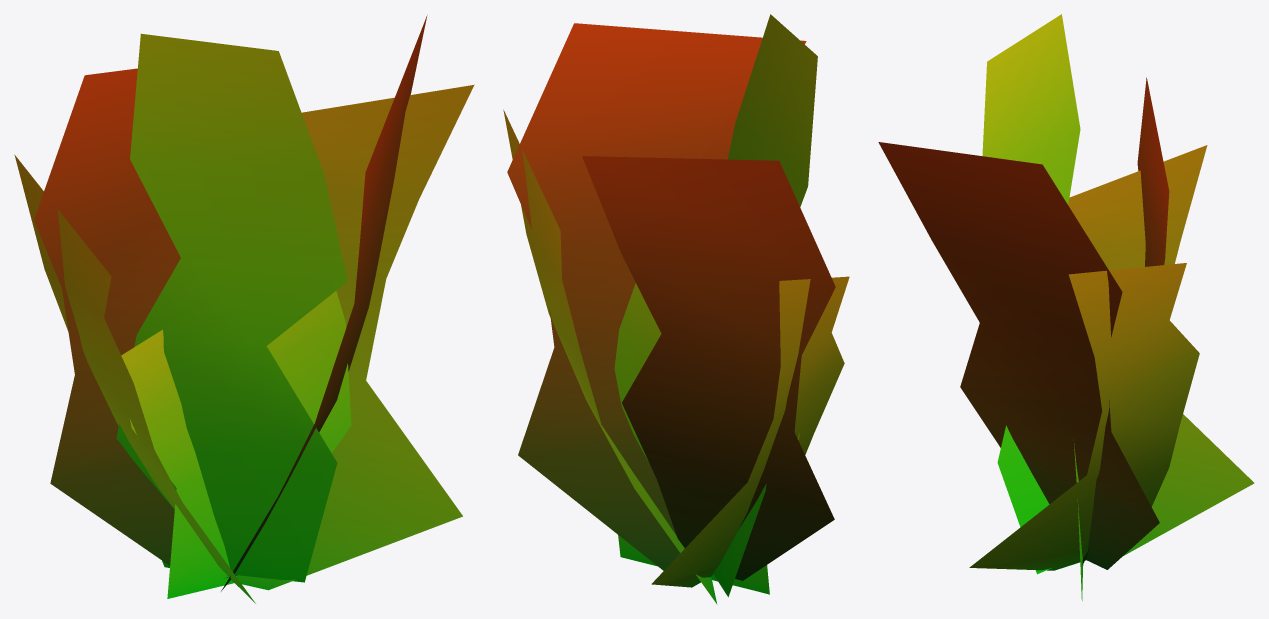
File: Var8Hi2.fbx
3 views of the same model, side by side, from view 1: azimuth 30°, elevation 25°; view 2: azimuth 150°, elevation 25°; view 3: azimuth 270°, elevation 25° (orthographic). The views are drawn at different scales.
Visible parts, largest first — view 1: bend1; view 2: bend1; view 3: bend1.
Boxes of the visible parts, x1,y1,x2,y2 form: bend1: (14,15,474,603); bend1: (503,14,849,604); bend1: (878,14,1254,600).
Bounding box in the file's own units: 1.27 × 1.76 × 1.19.
